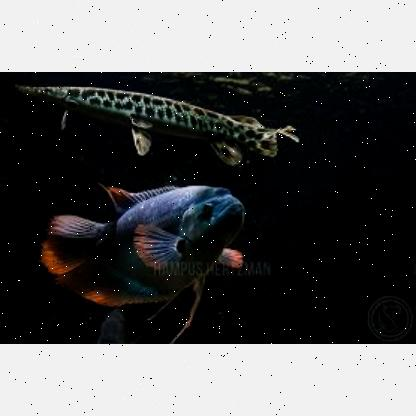gurame: (43, 184, 259, 304)
